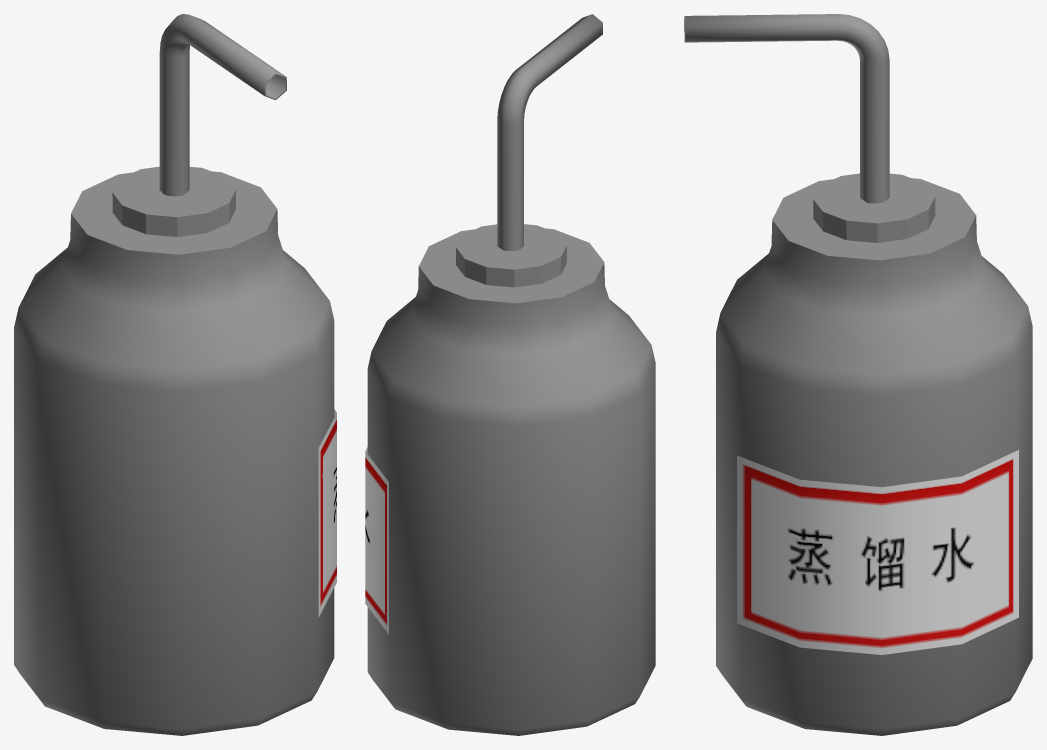
The model's file is SM_小瓶蒸馏水瓶.fbx.
3 views of the same model, side by side, from view 1: azimuth 30°, elevation 25°; view 2: azimuth 150°, elevation 25°; view 3: azimuth 270°, elevation 25° (orthographic). The views are drawn at different scales.
Parts seen in each view (by area): view 1: SM_小瓶蒸馏水瓶; view 2: SM_小瓶蒸馏水瓶; view 3: SM_小瓶蒸馏水瓶.
Boxes of the visible parts, x1=… form: SM_小瓶蒸馏水瓶: x1=14, y1=14, x2=336, y2=735; SM_小瓶蒸馏水瓶: x1=365, y1=14, x2=655, y2=735; SM_小瓶蒸馏水瓶: x1=684, y1=14, x2=1032, y2=735.
Bounding box in the file's own units: 56.09 × 128 × 61.22.
